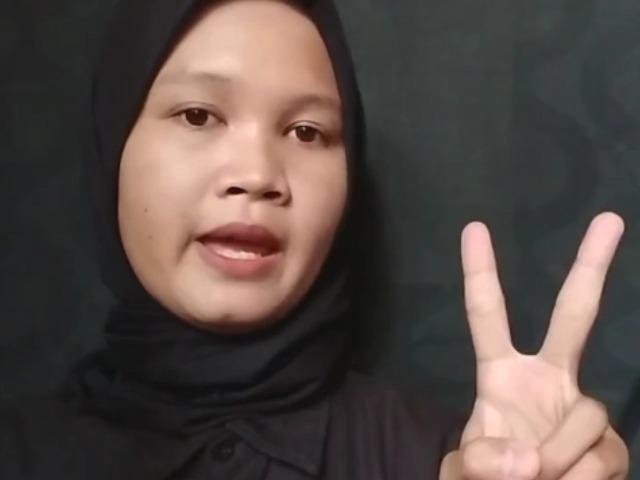V: (427, 211, 639, 480)
